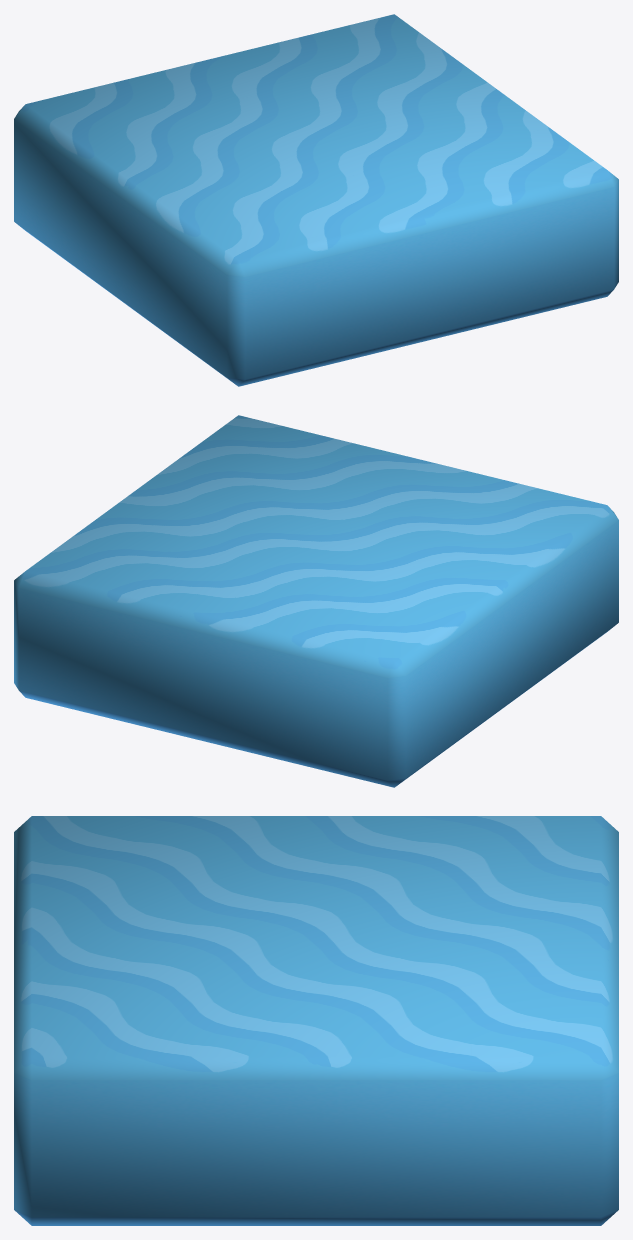
The model's file is water_top_4x4_medium.fbx.
3 views of the same model, one above another, from view 1: azimuth 30°, elevation 25°; view 2: azimuth 150°, elevation 25°; view 3: azimuth 270°, elevation 25° (orthographic). The views are drawn at different scales.
Visible parts, largest first — view 1: water_top_4x4_medium; view 2: water_top_4x4_medium; view 3: water_top_4x4_medium.
Boxes of the visible parts, <box> form: water_top_4x4_medium: <box>14,14,618,386</box>; water_top_4x4_medium: <box>14,415,618,787</box>; water_top_4x4_medium: <box>14,816,618,1225</box>.
Size of the model in its own units: 425 by 131 by 425.
